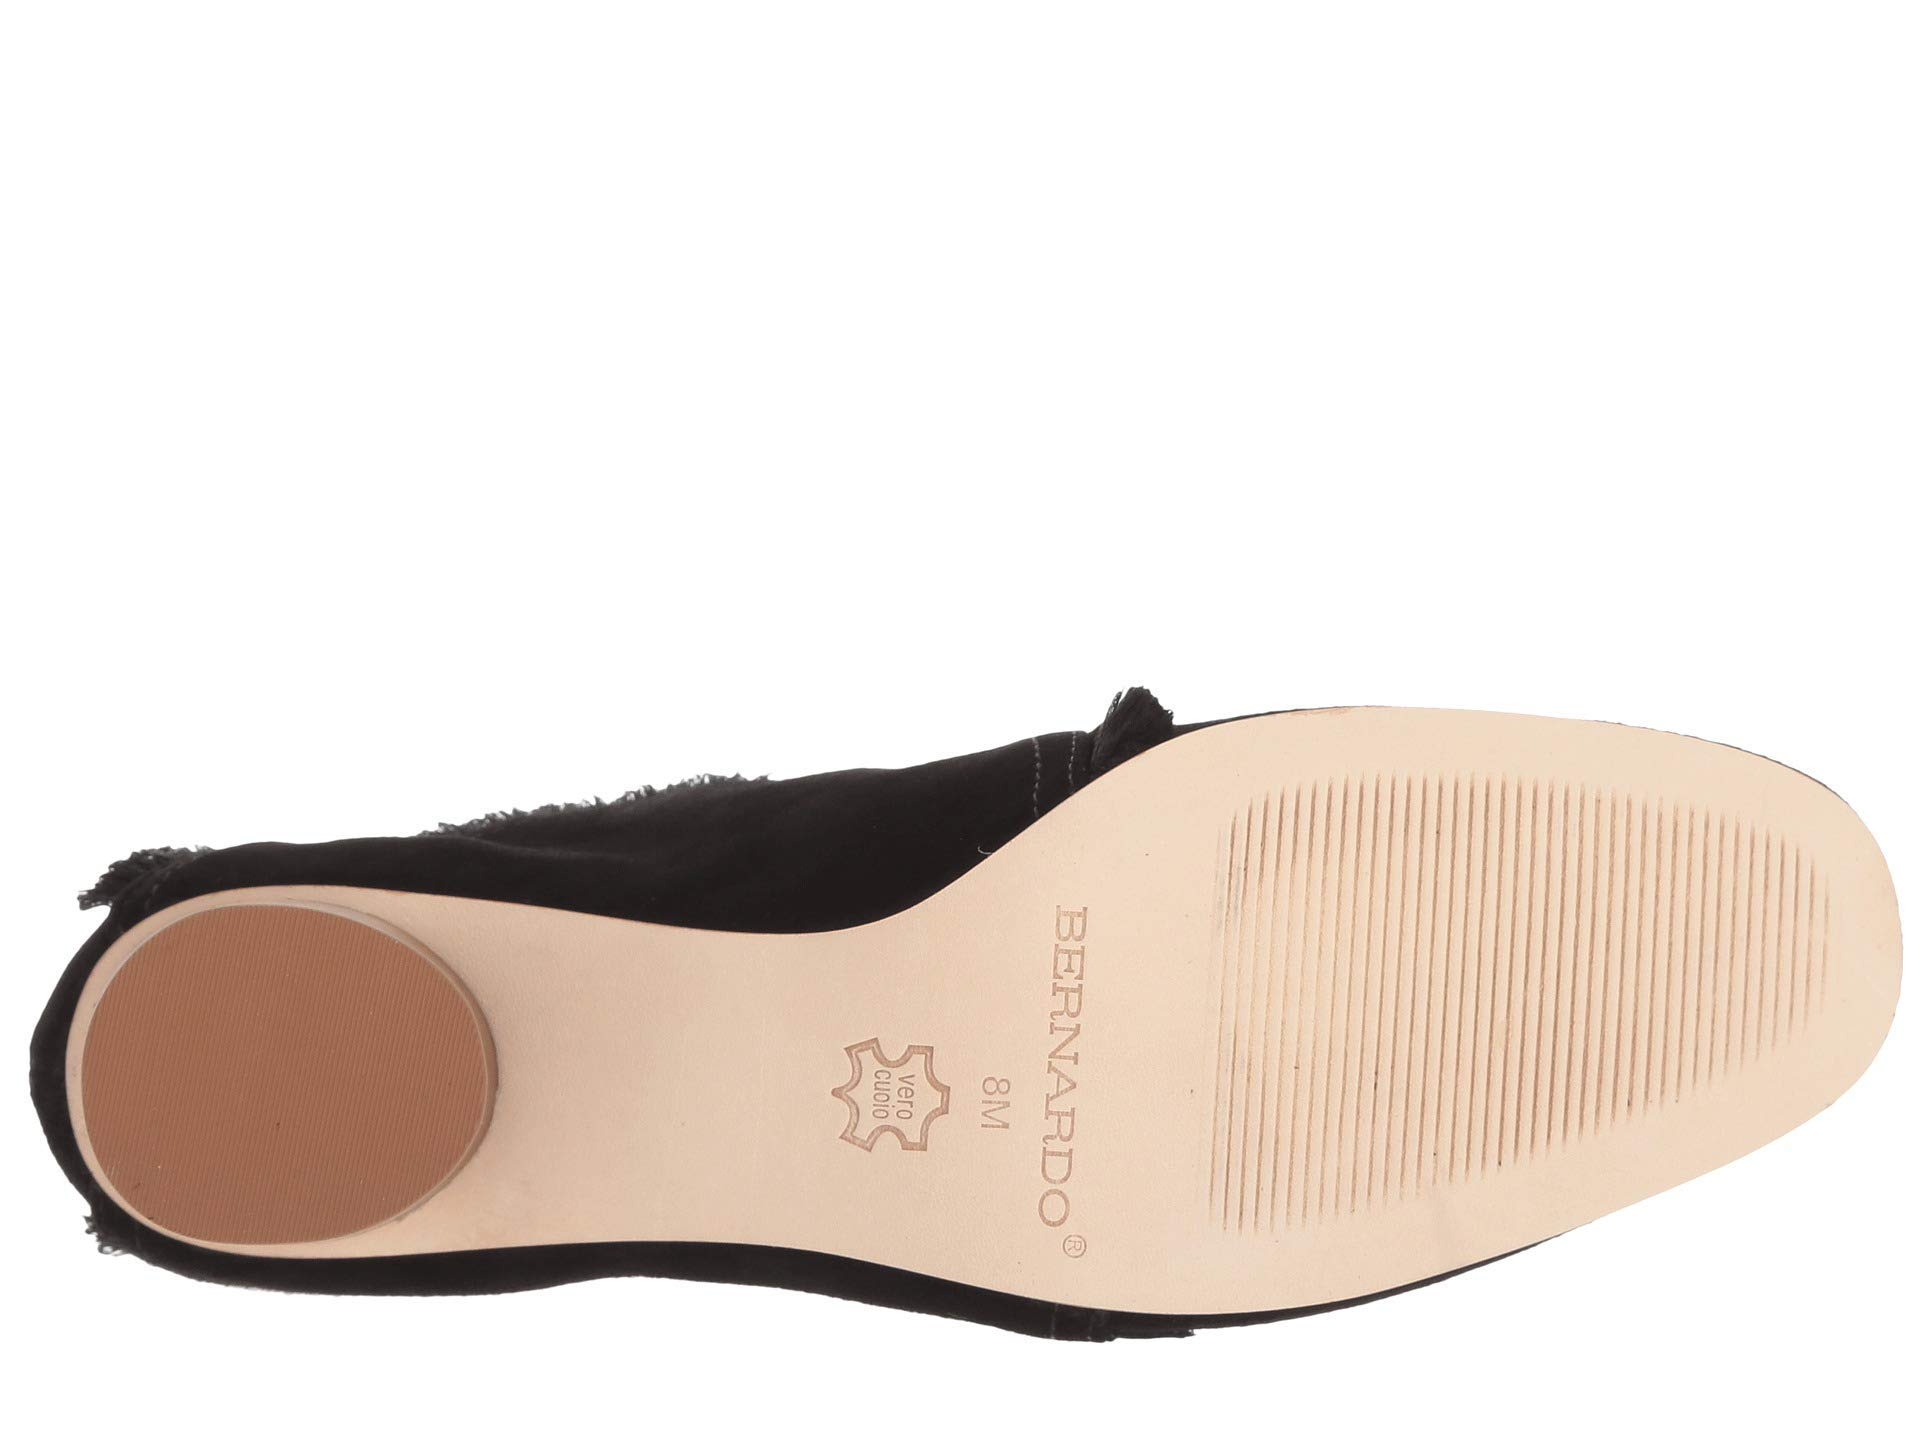line: (1229, 790, 1791, 1147), (156, 959, 428, 1178)
